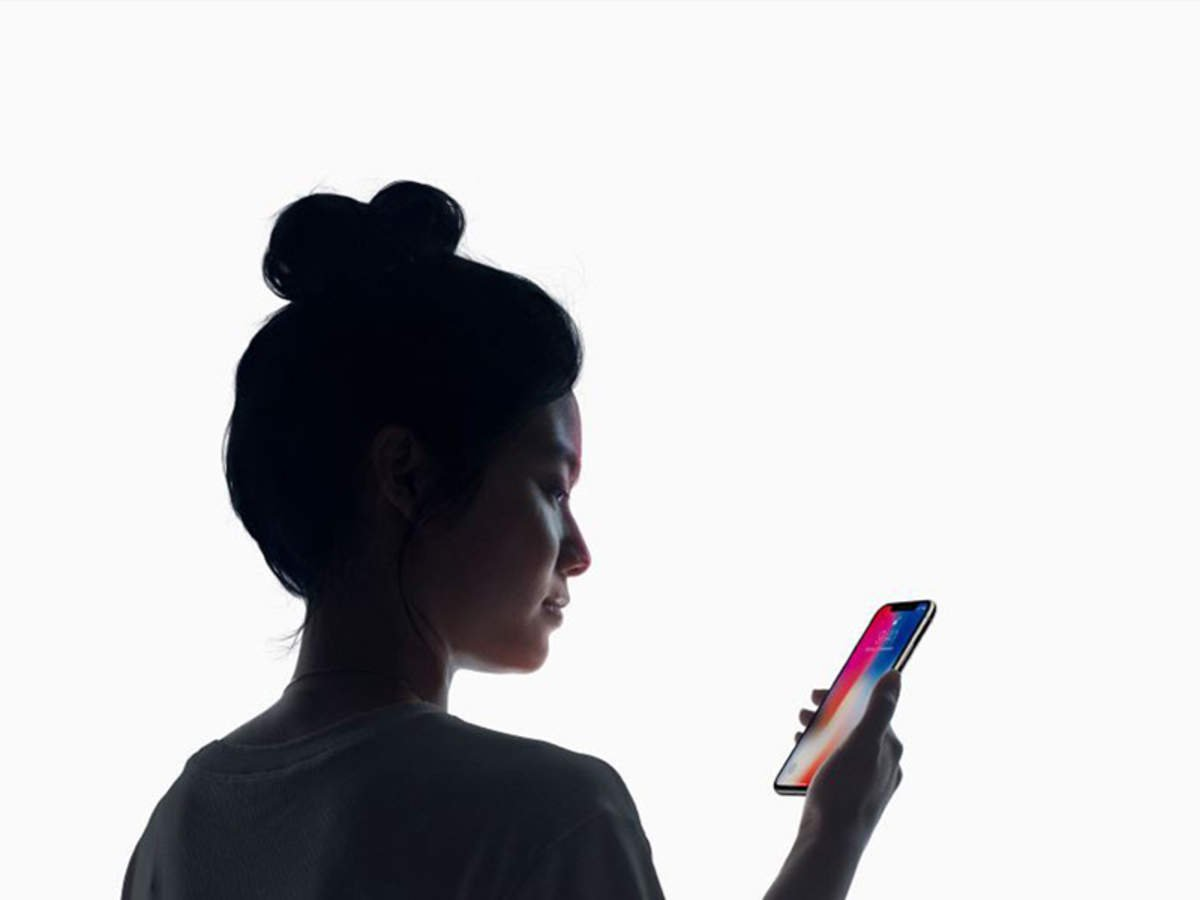noMask: (190, 175, 645, 682)
